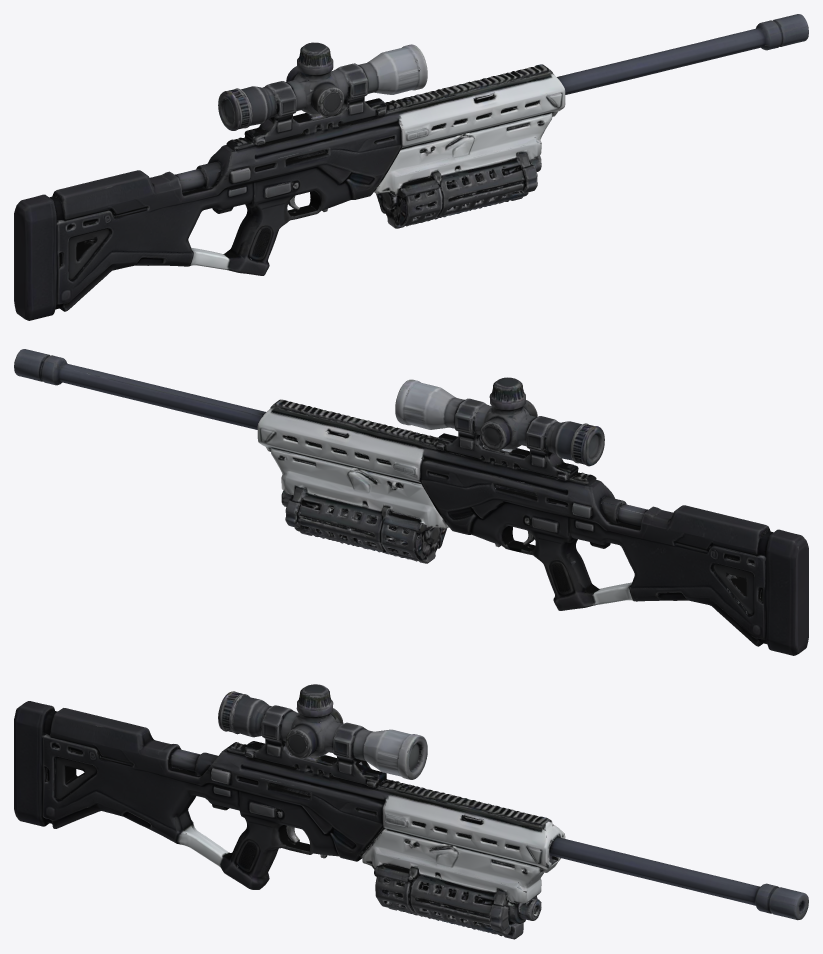
The model's file is rifle.glb.
3 views of the same model, one above another, from view 1: azimuth 30°, elevation 25°; view 2: azimuth 150°, elevation 25°; view 3: azimuth 330°, elevation 25° (orthographic).
Visible parts, largest first — view 1: rifle; view 2: rifle; view 3: rifle.
Part boxes in pixels (x1,y1,x2,y2): rifle: (14,14,808,320); rifle: (14,349,808,655); rifle: (14,684,808,939).
Bounding box in the file's own units: 3.86 × 1 × 0.3247.
1 material, 1 textured.
